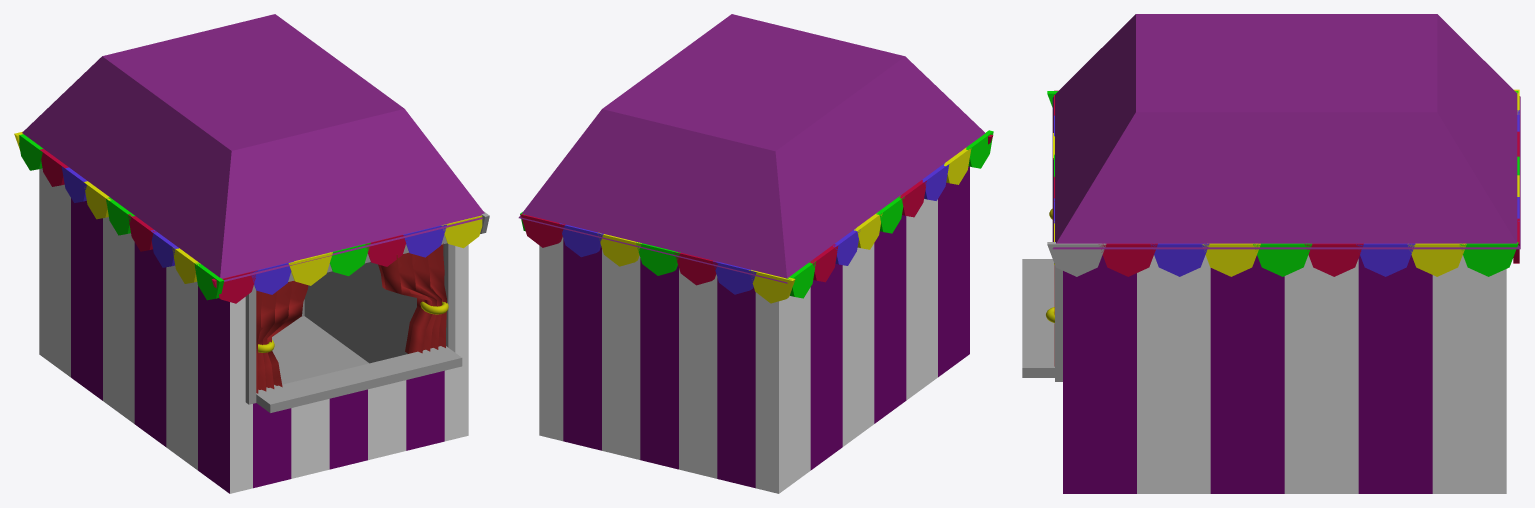
The model's file is TeatroMorado8.fbx.
The picture shows the model from 3 angles, left to right: view 1: azimuth 30°, elevation 25°; view 2: azimuth 150°, elevation 25°; view 3: azimuth 270°, elevation 25°; orthographic projection. The views are drawn at different scales.
Visible parts, largest first — view 1: Techo1, Escenario, Fondo, R_Curtain, L_Curtain, pCylinder30, pCylinder31, pCylinder33, pCylinder29, pCylinder32, pCylinder34, pCylinder28 (+9 smaller); view 2: Escenario, Techo1, pCylinder27, pCylinder21, pCylinder24, pCylinder25, pCylinder26, pCylinder23, pCylinder22, pCylinder16, pCylinder14, pCylinder18 (+6 smaller); view 3: Escenario, Techo1, pCylinder1, pCylinder9, pCylinder4, pCylinder2, pCylinder6, pCylinder8, pCylinder5, pCylinder7, pCylinder3.
Boxes of the visible parts, <box> form: Techo1: <box>22,14,484,281</box>; Escenario: <box>39,168,468,493</box>; Fondo: <box>258,244,444,390</box>; R_Curtain: <box>378,243,446,353</box>; L_Curtain: <box>256,281,308,393</box>; pCylinder30: <box>288,252,332,285</box>; pCylinder31: <box>403,224,446,257</box>; pCylinder33: <box>326,242,370,276</box>; pCylinder29: <box>250,261,293,294</box>; pCylinder32: <box>441,215,482,248</box>; pCylinder34: <box>365,235,406,266</box>; pCylinder28: <box>211,270,257,303</box>; Escenario: <box>539,166,969,493</box>; Techo1: <box>518,14,985,283</box>; pCylinder27: <box>749,270,795,303</box>; pCylinder21: <box>520,214,565,247</box>; pCylinder24: <box>636,242,680,275</box>; pCylinder25: <box>674,252,718,285</box>; pCylinder26: <box>713,261,756,294</box>; pCylinder23: <box>597,232,641,266</box>; pCylinder22: <box>559,223,603,257</box>; pCylinder16: <box>809,244,838,282</box>; pCylinder14: <box>876,195,904,233</box>; pCylinder18: <box>899,180,926,217</box>; Escenario: <box>1022,255,1506,493</box>; Techo1: <box>1052,14,1520,249</box>; pCylinder1: <box>1047,242,1106,276</box>; pCylinder9: <box>1459,242,1518,276</box>; pCylinder4: <box>1202,243,1260,276</box>; pCylinder2: <box>1099,243,1157,276</box>; pCylinder6: <box>1305,243,1363,276</box>; pCylinder8: <box>1407,243,1466,276</box>; pCylinder5: <box>1253,243,1312,276</box>; pCylinder7: <box>1356,243,1415,276</box>; pCylinder3: <box>1151,243,1209,276</box>.
Bounding box in the file's own units: 15.98 × 17.42 × 21.66.
